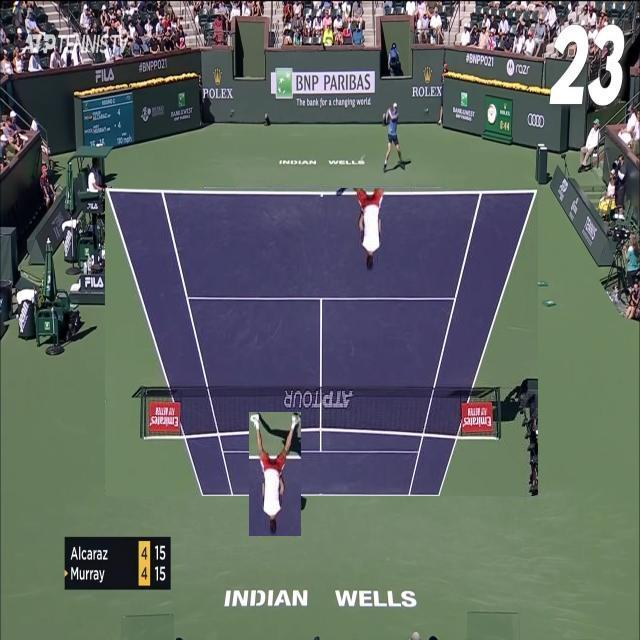court: (105, 188, 538, 496)
net: (142, 242, 503, 298)
player: (249, 412, 301, 536)
